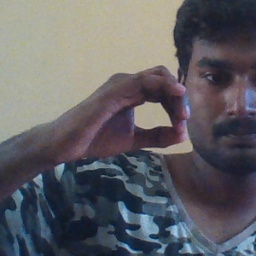O: (61, 55, 196, 166)
